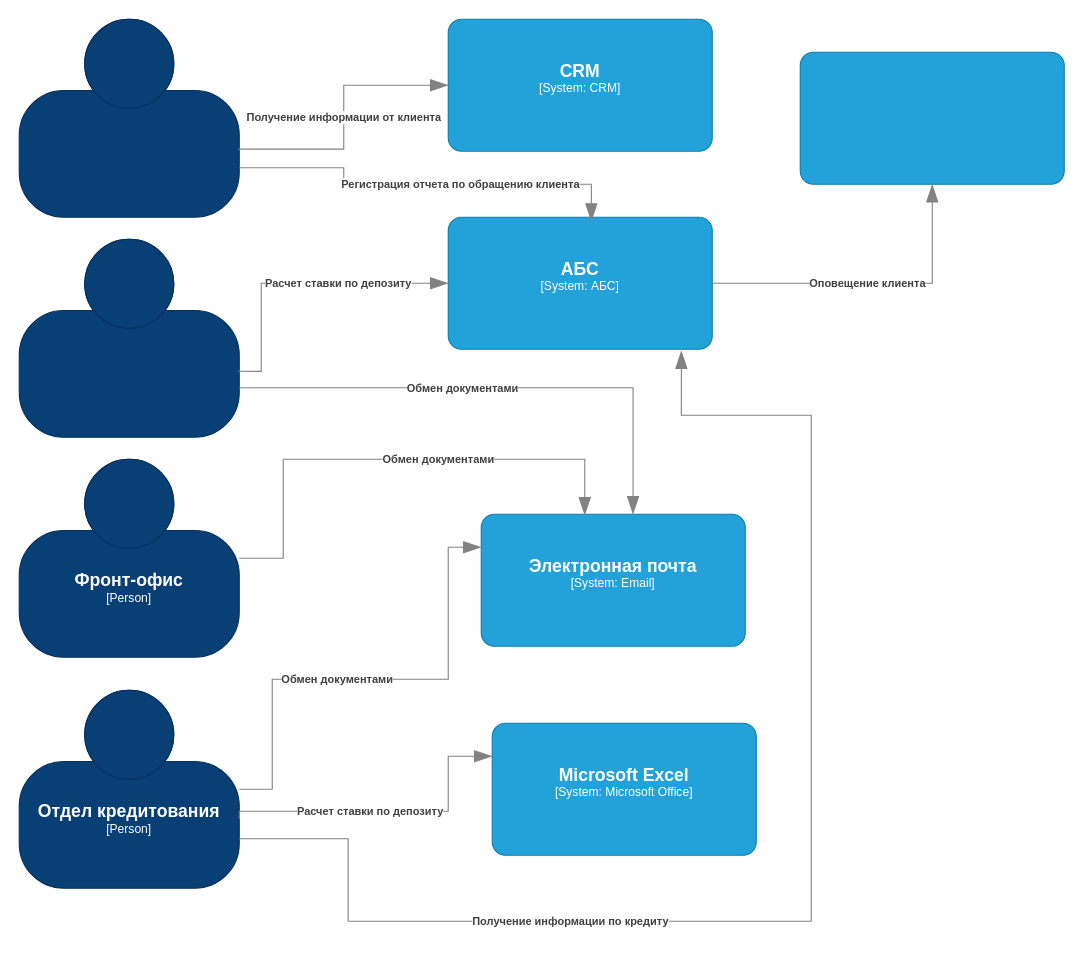
Image size: 1084x958. Some labels were removed from this diagram. The centre of each missing label's shape, as x and y in pixels:
Бэк-офис [Person]: point 128,337
Кол-центр [Person]: point 128,117
СМС-Оповещение [System: СМС-Оповещение]: point 931,117
